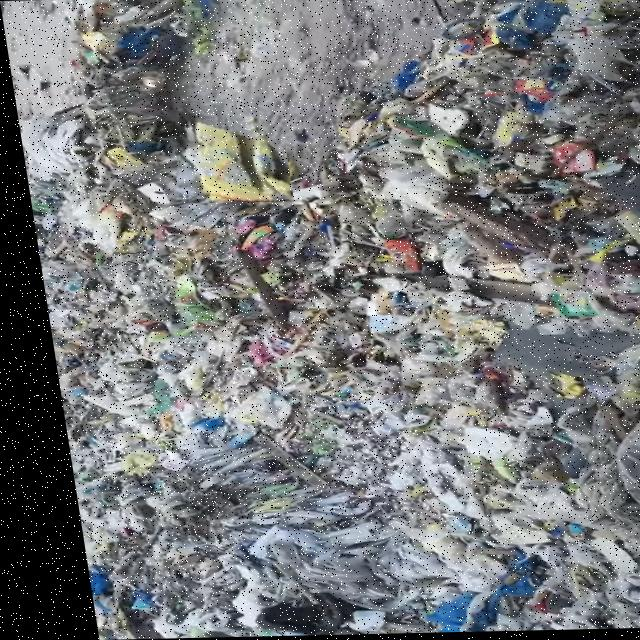plasticcover: (164, 113, 287, 203), (49, 191, 140, 278), (575, 336, 640, 415), (433, 316, 515, 369), (374, 164, 447, 217)
